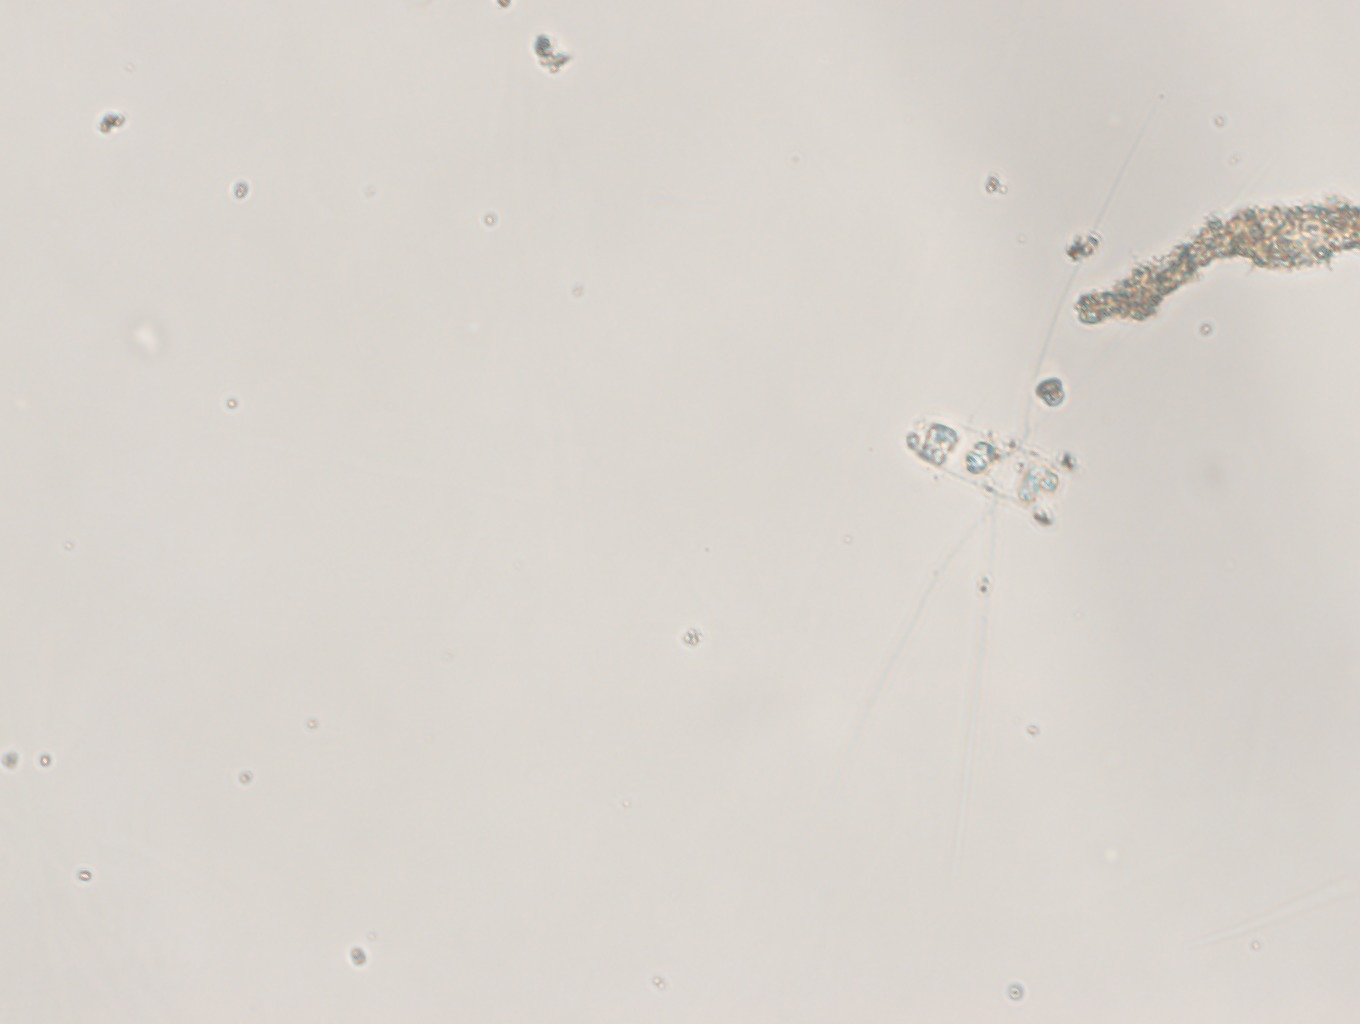chaetoceros: (850, 196, 1128, 684)
